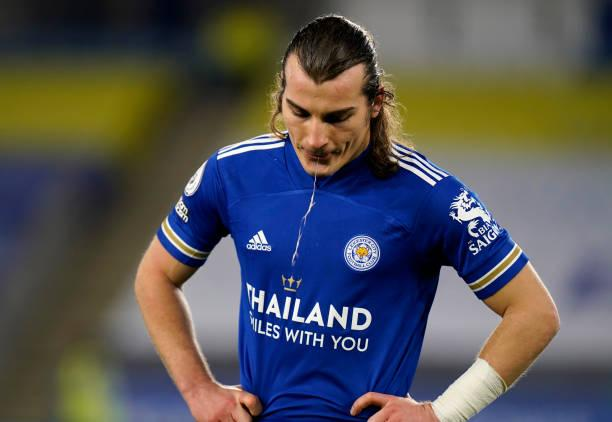Spitting: (251, 0, 406, 215)
